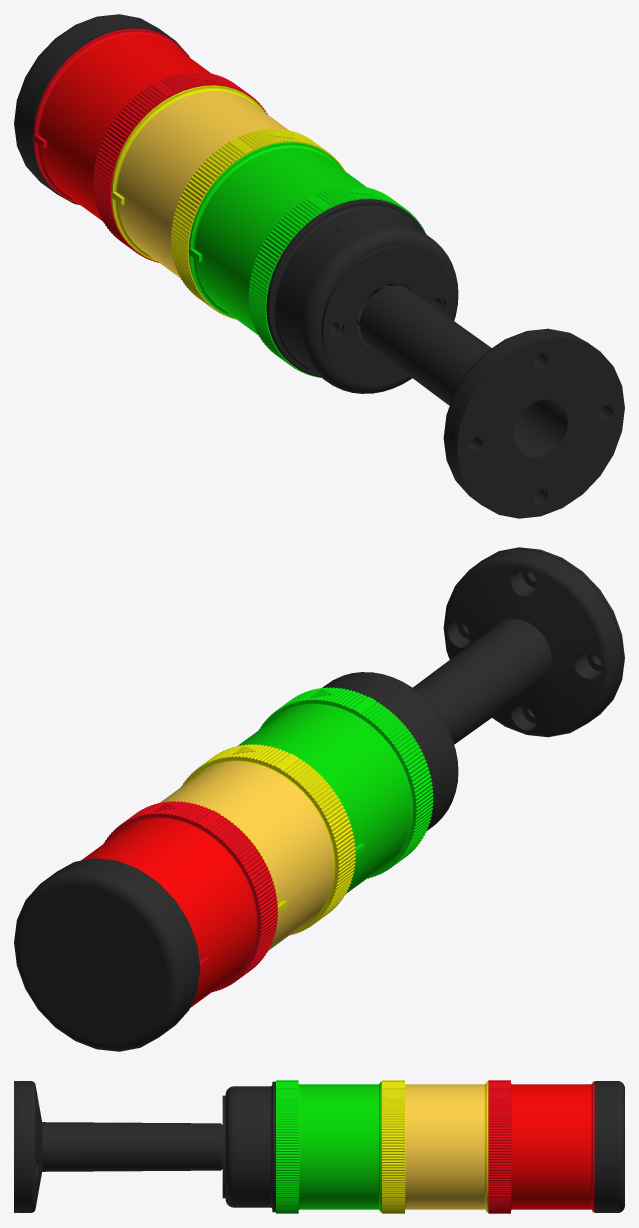
The model's file is KombiSIGN71.fbx.
The picture shows the model from 3 angles, top to bottom: view 1: azimuth 30°, elevation 25°; view 2: azimuth 150°, elevation 25°; view 3: azimuth 270°, elevation 25°; orthographic projection. The views are drawn at different scales.
Visible parts, largest first — view 1: Accessories 975.840.10_2, KombiSIGN 71 640.800.00_1(P)_1, KombiSIGN 71 644.200.75(A)_3, KombiSIGN 71 644.100.75(A)_5, KombiSIGN 71 644.300.75(A)_4, KombiSIGN 71 644.200.75(A)_3.001, KombiSIGN 71 644.300.75(A)_4.001, KombiSIGN 71 644.100.75(A)_5.001, KombiSIGN 71 640.800.00_2_6; view 2: Accessories 975.840.10_2, KombiSIGN 71 640.800.00_2_6, KombiSIGN 71 644.200.75(A)_3, KombiSIGN 71 644.100.75(A)_5, KombiSIGN 71 644.300.75(A)_4, KombiSIGN 71 644.100.75(A)_5.001, KombiSIGN 71 644.200.75(A)_3.001, KombiSIGN 71 644.300.75(A)_4.001, KombiSIGN 71 640.800.00_1(P)_1; view 3: Accessories 975.840.10_2, KombiSIGN 71 644.200.75(A)_3, KombiSIGN 71 644.300.75(A)_4, KombiSIGN 71 644.100.75(A)_5, KombiSIGN 71 640.800.00_1(P)_1, KombiSIGN 71 640.800.00_2_6, KombiSIGN 71 644.300.75(A)_4.001, KombiSIGN 71 644.100.75(A)_5.001, KombiSIGN 71 644.200.75(A)_3.001.
Part boxes in pixels (x1,y1,x2,y2): Accessories 975.840.10_2: (359,285,624,518); KombiSIGN 71 640.800.00_1(P)_1: (266,199,458,393); KombiSIGN 71 644.200.75(A)_3: (195,148,366,335); KombiSIGN 71 644.100.75(A)_5: (40,34,211,221); KombiSIGN 71 644.300.75(A)_4: (117,91,289,278); KombiSIGN 71 644.200.75(A)_3.001: (188,142,426,377); KombiSIGN 71 644.300.75(A)_4.001: (111,85,345,319); KombiSIGN 71 644.100.75(A)_5.001: (33,28,267,262); KombiSIGN 71 640.800.00_2_6: (14,14,189,205); Accessories 975.840.10_2: (413,547,624,744); KombiSIGN 71 640.800.00_2_6: (14,858,200,1051); KombiSIGN 71 644.200.75(A)_3: (237,705,411,893); KombiSIGN 71 644.100.75(A)_5: (81,819,255,1007); KombiSIGN 71 644.300.75(A)_4: (159,762,333,950); KombiSIGN 71 644.100.75(A)_5.001: (86,801,277,999); KombiSIGN 71 644.200.75(A)_3.001: (254,687,433,884); KombiSIGN 71 644.300.75(A)_4.001: (176,744,355,941); KombiSIGN 71 640.800.00_1(P)_1: (321,672,458,830); Accessories 975.840.10_2: (14,1081,222,1212); KombiSIGN 71 644.200.75(A)_3: (299,1084,378,1209); KombiSIGN 71 644.300.75(A)_4: (406,1084,484,1209); KombiSIGN 71 644.100.75(A)_5: (512,1084,590,1209); KombiSIGN 71 640.800.00_1(P)_1: (222,1081,275,1212); KombiSIGN 71 640.800.00_2_6: (594,1081,624,1212); KombiSIGN 71 644.300.75(A)_4.001: (382,1080,488,1213); KombiSIGN 71 644.100.75(A)_5.001: (488,1080,594,1213); KombiSIGN 71 644.200.75(A)_3.001: (276,1080,381,1213).
Bounding box in the file's own units: 0.0702 × 0.0701 × 0.322.
